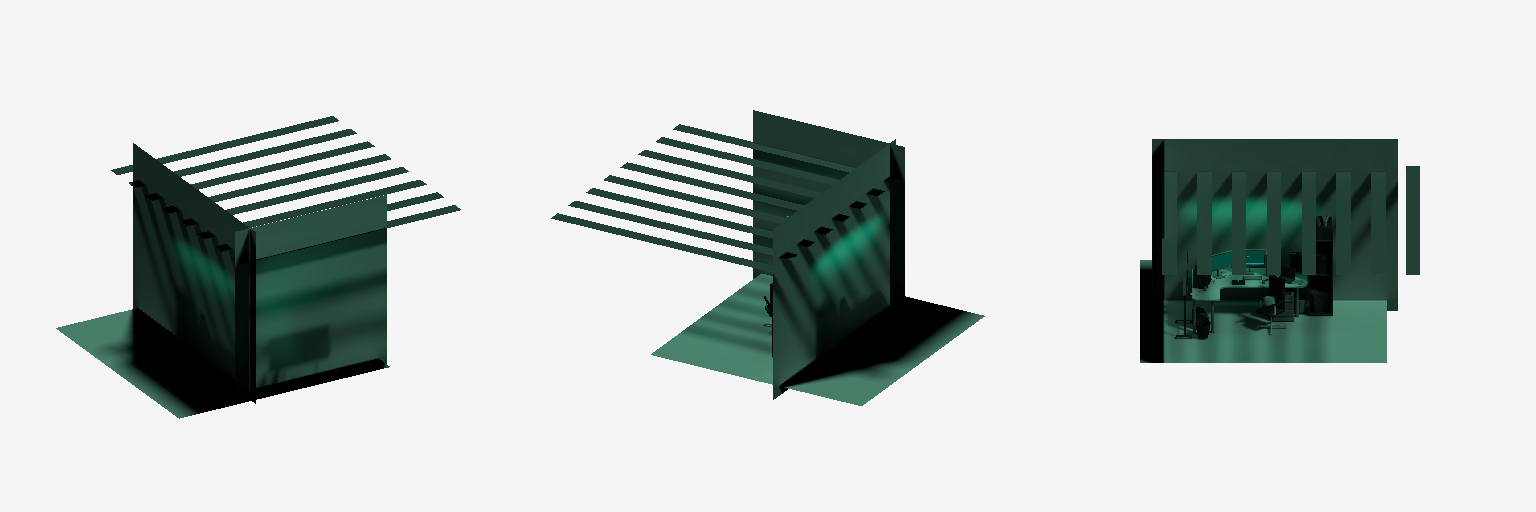
The picture shows the model from 3 angles: view 1: azimuth 30°, elevation 25°; view 2: azimuth 150°, elevation 25°; view 3: azimuth 270°, elevation 25°; orthographic projection.
Bounding box in the file's own units: 9.57 × 5.33 × 7.91.
1 materials, 1 textured.